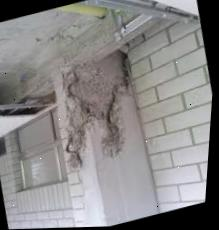spalling: (61, 61, 130, 170)
